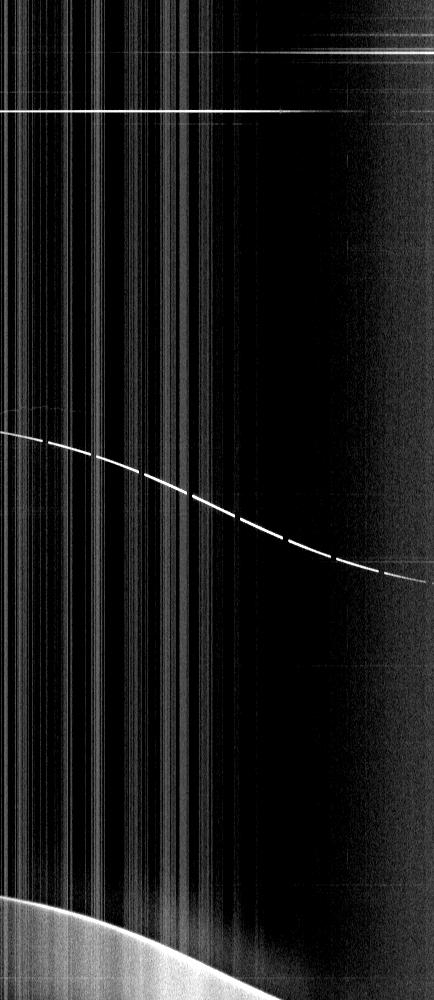signal: (0, 0, 433, 999)
